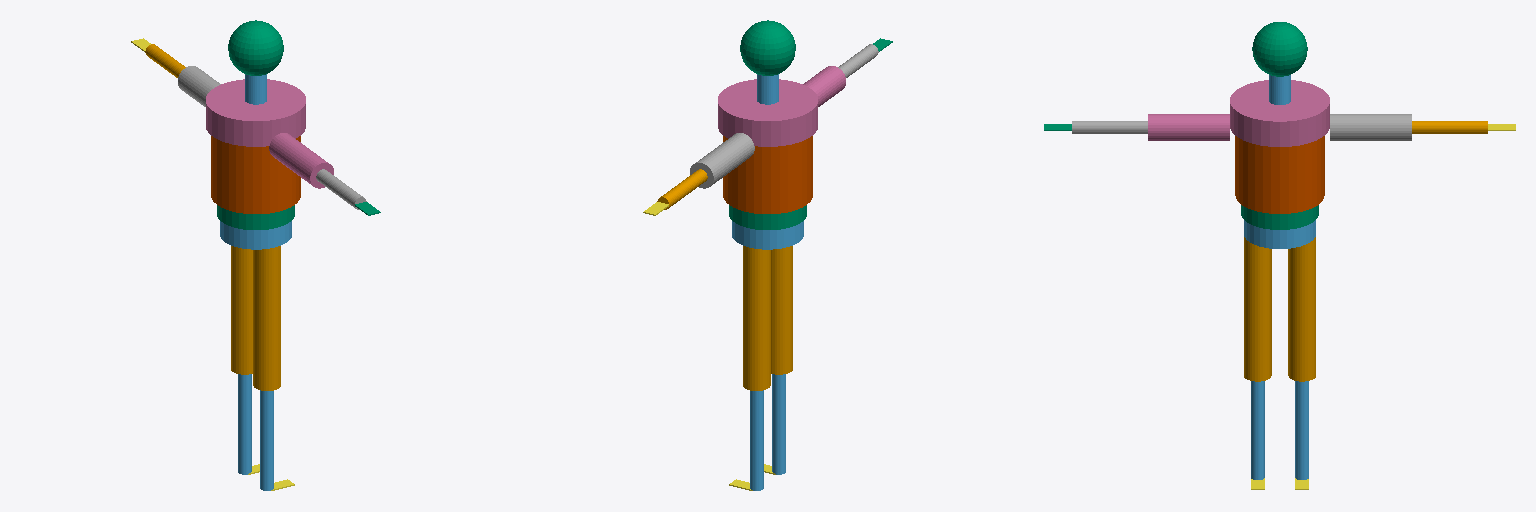
--- Facts derived from the render (not from the file) ---
The picture shows the robot from 3 angles, left to right: view 1: azimuth 30°, elevation 25°; view 2: azimuth 150°, elevation 25°; view 3: azimuth 270°, elevation 25°; orthographic projection.
Model human_model with 45 links and 44 joints (43 revolute, 1 fixed), rooted at world, posed all joints at 0.
Visible links, largest first — view 1: human/spine, human/shoulder_center, human/right_hip, human/left_hip, human/head, human/right_shoulder, human/right_knee, human/left_knee, human/base, human/spine_0, human/left_shoulder, human/right_elbow (+2 smaller); view 2: human/spine, human/shoulder_center, human/left_hip, human/right_hip, human/head, human/left_shoulder, human/right_knee, human/left_knee, human/base, human/spine_0, human/right_shoulder, human/left_elbow (+2 smaller); view 3: human/spine, human/shoulder_center, human/right_hip, human/left_hip, human/head, human/right_shoulder, human/left_shoulder, human/right_knee, human/left_knee, human/base, human/spine_0, human/right_elbow (+2 smaller).
Boxes of the visible links, x1,y1,x2,y2 form: human/spine: (211,136,300,213); human/shoulder_center: (206,79,305,146); human/right_hip: (253,246,280,390); human/left_hip: (231,246,252,374); human/head: (228,20,283,75); human/right_shoulder: (269,133,333,188); human/right_knee: (260,390,273,490); human/left_knee: (238,374,251,474); human/base: (220,221,291,249); human/spine_0: (217,205,294,229); human/left_shoulder: (178,66,220,106); human/right_elbow: (316,169,366,209); human/spine: (723,136,812,213); human/shoulder_center: (718,79,817,146); human/left_hip: (743,246,770,390); human/right_hip: (771,246,792,374); human/head: (740,20,795,75); human/left_shoulder: (690,133,754,188); human/right_knee: (772,374,785,474); human/left_knee: (750,390,763,490); human/base: (732,221,803,249); human/spine_0: (729,205,806,229); human/right_shoulder: (803,66,845,106); human/left_elbow: (657,169,707,209); human/spine: (1235,136,1324,213); human/shoulder_center: (1230,80,1329,146); human/right_hip: (1244,237,1271,381); human/left_hip: (1288,237,1315,381); human/head: (1252,22,1307,76); human/right_shoulder: (1148,114,1229,140); human/left_shoulder: (1330,114,1411,140); human/right_knee: (1251,381,1264,479); human/left_knee: (1295,381,1308,479); human/base: (1244,220,1315,248); human/spine_0: (1241,205,1318,229); human/right_elbow: (1072,121,1147,133).
Bounding box of the posed robot: 0.3623 × 1.7 × 1.81 m (x, y, z).
Geometry: primitives only (box / cylinder / sphere), no mesh files.

robot.urdf — human_model:
<?xml version="1.0" ?>
<!-- based on https://github.com/baxter-flowers/human_moveit_config/blob/master/urdf/human.urdf -->
<robot name="human_model" xmlns:xacro="http://ros.org/wiki/xacro">
    <link name="world" />
    <joint name="world_fixed" type="fixed">
        <parent link="world" />
        <child link="human/base" />
    </joint>
    <link name="human/base">
        <visual>
            <origin rpy="0 0 0" xyz="0 0 -0.0405569060538" />
            <geometry>
                <cylinder length="0.0811138121076" radius="0.130553532998" />
            </geometry>
        </visual>
        <collision>
            <origin rpy="0 0 0" xyz="0 0 -0.0405569060538" />
            <geometry>
                <cylinder length="0.0811138121076" radius="0.130553532998" />
            </geometry>
        </collision>
        <inertial>
            <mass value="0.1" />
            <origin xyz="0 0 0" rpy="0 0 0" />
            <inertia ixx="0.03" iyy="0.03" izz="0.03" ixy="0.0" ixz="0.0" iyz="0.0" />
        </inertial>
    </link>
    <link name="human/spine_0">
        <visual>
            <origin rpy="0 0 0" xyz="0 0 0.0363124478192" />
            <geometry>
                <cylinder length="0.0726248956383" radius="0.141172520845" />
            </geometry>
        </visual>
        <collision>
            <origin rpy="0 0 0" xyz="0 0 0.0363124478192" />
            <geometry>
                <cylinder length="0.0726248956383" radius="0.141172520845" />
            </geometry>
        </collision>
        <inertial>
            <mass value="0.1" />
            <origin xyz="0 0 0" rpy="0 0 0" />
            <inertia ixx="0.03" iyy="0.03" izz="0.03" ixy="0.0" ixz="0.0" iyz="0.0" />
        </inertial>
    </link>
    <link name="human/spine_1">
        <inertial>
            <mass value="0.001" />
            <origin xyz="0 0 0" rpy="0 0 0" />
            <inertia ixx="0.00" iyy="0.00" izz="0.00" ixy="0.0" ixz="0.0" iyz="0.0" />
        </inertial>
    </link>
    <link name="human/spine_2">
        <inertial>
            <mass value="0.001" />
            <origin xyz="0 0 0" rpy="0 0 0" />
            <inertia ixx="0.00" iyy="0.00" izz="0.00" ixy="0.0" ixz="0.0" iyz="0.0" />
        </inertial>
    </link>
    <link name="human/spine">
        <visual>
            <origin rpy="0 0 0" xyz="0 0 0.137944030927" />
            <geometry>
                <cylinder length="0.275888061853" radius="0.161172520845" />
            </geometry>
        </visual>
        <collision>
            <origin rpy="0 0 0" xyz="0 0 0.137944030927" />
            <geometry>
                <cylinder length="0.275888061853" radius="0.161172520845" />
            </geometry>
        </collision>
        <inertial>
            <mass value="0.1" />
            <origin xyz="0 0 0" rpy="0 0 0" />
            <inertia ixx="0.03" iyy="0.03" izz="0.03" ixy="0.0" ixz="0.0" iyz="0.0" />
        </inertial>
    </link>
    <link name="human/shoulder_center">
        <visual>
            <origin rpy="0 0 0" xyz="0 0 0.050635057485" />
            <geometry>
                <cylinder length="0.10127011497" radius="0.181172520845" />
            </geometry>
        </visual>
        <collision>
            <origin rpy="0 0 0" xyz="0 0 0.050635057485" />
            <geometry>
                <cylinder length="0.10127011497" radius="0.181172520845" />
            </geometry>
        </collision>
        <inertial>
            <mass value="0.1" />
            <origin xyz="0 0 0" rpy="0 0 0" />
            <inertia ixx="0.03" iyy="0.03" izz="0.03" ixy="0.0" ixz="0.0" iyz="0.0" />
        </inertial>
    </link>
    <link name="human/neck_0">
        <inertial>
            <mass value="0.001" />
            <origin xyz="0 0 0" rpy="0 0 0" />
            <inertia ixx="0.00" iyy="0.00" izz="0.00" ixy="0.0" ixz="0.0" iyz="0.0" />
        </inertial>
    </link>
    <link name="human/neck_1">
        <inertial>
            <mass value="0.001" />
            <origin xyz="0 0 0" rpy="0 0 0" />
            <inertia ixx="0.00" iyy="0.00" izz="0.00" ixy="0.0" ixz="0.0" iyz="0.0" />
        </inertial>
    </link>
    <link name="human/neck">
        <visual>
            <origin rpy="0 0 0" xyz="0 0 0.102139711472" />
            <geometry>
                <cylinder length="0.204279422944" radius="0.04" />
            </geometry>
        </visual>
        <collision>
            <origin rpy="0 0 0" xyz="0 0 0.102139711472" />
            <geometry>
                <cylinder length="0.204279422944" radius="0.04" />
            </geometry>
        </collision>
        <inertial>
            <mass value="0.1" />
            <origin xyz="0 0 0" rpy="0 0 0" />
            <inertia ixx="0.03" iyy="0.03" izz="0.03" ixy="0.0" ixz="0.0" iyz="0.0" />
        </inertial>
    </link>
    <link name="human/head">
        <visual>
            <origin rpy="0 0 0" xyz="0 0 0" />
            <geometry>
                <sphere radius="0.1" />
            </geometry>
        </visual>
        <collision>
            <origin rpy="0 0 0" xyz="0 0 0" />
            <geometry>
                <sphere radius="0.1" />
            </geometry>
        </collision>
        <inertial>
            <mass value="0.1" />
            <origin xyz="0 0 0" rpy="0 0 0" />
            <inertia ixx="0.03" iyy="0.03" izz="0.03" ixy="0.0" ixz="0.0" iyz="0.0" />
        </inertial>
    </link>
    <joint name="hip" type="revolute">
        <origin rpy="0 0 0" xyz="0 0 0" />
        <axis xyz="0 0 0" />
        <parent link="human/base" />
        <child link="human/spine_0" />
        <limit effort="0" lower="0" upper="0" velocity="0" />
    </joint>
    <!-- SPINE : spherical -->
    <joint name="spine_0" type="revolute">
        <origin rpy="0 0 0" xyz="0 0 0.0726248956383" />
        <axis xyz="1 0 0" />
        <parent link="human/spine_0" />
        <child link="human/spine_1" />
        <limit effort="1" lower="-1.57079632679" upper="1.57079632679" velocity="1" />
    </joint>
    <joint name="spine_1" type="revolute">
        <origin rpy="0 0 0" xyz="0 0 0" />
        <axis xyz="0 1 0" />
        <parent link="human/spine_1" />
        <child link="human/spine_2" />
        <limit effort="1" lower="-1.57079632679" upper="1.57079632679" velocity="1" />
    </joint>
    <joint name="spine_2" type="revolute">
        <origin rpy="0 0 0" xyz="0 0 0" />
        <axis xyz="0 0 1" />
        <parent link="human/spine_2" />
        <child link="human/spine" />
        <limit effort="1" lower="-1.57079632679" upper="1.57079632679" velocity="1" />
    </joint>
    <joint name="shoulder_center" type="revolute">
        <origin rpy="0 0 0" xyz="0 0 0.275888061853" />
        <axis xyz="0 0 0" />
        <parent link="human/spine" />
        <child link="human/shoulder_center" />
        <limit effort="0" lower="0" upper="0" velocity="0" />
    </joint>
    <!-- NECK : spherical -->
    <joint name="neck_0" type="revolute">
        <origin rpy="0 0 0" xyz="0 0 0.10127011497" />
        <axis xyz="1 0 0" />
        <parent link="human/shoulder_center" />
        <child link="human/neck_0" />
        <limit effort="1" lower="-1.57079632679" upper="1.57079632679" velocity="1" />
    </joint>
    <joint name="neck_1" type="revolute">
        <origin rpy="0 0 0" xyz="0 0 0" />
        <axis xyz="0 1 0" />
        <parent link="human/neck_0" />
        <child link="human/neck_1" />
        <limit effort="1" lower="-1.57079632679" upper="1.57079632679" velocity="1" />
    </joint>
    <joint name="neck_2" type="revolute">
        <origin rpy="0 0 0" xyz="0 0 0" />
        <axis xyz="0 0 1" />
        <parent link="human/neck_1" />
        <child link="human/neck" />
        <limit effort="1" lower="-1.57079632679" upper="1.57079632679" velocity="1" />
    </joint>
    <!-- END NECK -->
    <joint name="head" type="revolute">
        <origin rpy="0 0 0" xyz="0 0 0.204279422944" />
        <axis xyz="0 0 0" />
        <parent link="human/neck" />
        <child link="human/head" />
        <limit effort="0" lower="0" upper="0" velocity="0" />
    </joint>
    <link name="human/right_arm_mount">
        <inertial>
            <mass value="0.001" />
            <origin xyz="0 0 0" rpy="0 0 0" />
            <inertia ixx="0.00" iyy="0.00" izz="0.00" ixy="0.0" ixz="0.0" iyz="0.0" />
        </inertial>
    </link>
    <link name="human/right_shoulder_0">
        <inertial>
            <mass value="0.001" />
            <origin xyz="0 0 0" rpy="0 0 0" />
            <inertia ixx="0.00" iyy="0.00" izz="0.00" ixy="0.0" ixz="0.0" iyz="0.0" />
        </inertial>
    </link>
    <link name="human/right_shoulder_1">
        <inertial>
            <mass value="0.001" />
            <origin xyz="0 0 0" rpy="0 0 0" />
            <inertia ixx="0.00" iyy="0.00" izz="0.00" ixy="0.0" ixz="0.0" iyz="0.0" />
        </inertial>
    </link>
    <link name="human/right_shoulder">
        <visual>
            <origin rpy="0 1.57079632679 0" xyz="0.147075804738 0 0" />
            <geometry>
                <cylinder length="0.294151609476" radius="0.05" />
            </geometry>
        </visual>
        <collision>
            <origin rpy="0 1.57079632679 0" xyz="0.147075804738 0 0" />
            <geometry>
                <cylinder length="0.294151609476" radius="0.05" />
            </geometry>
        </collision>
        <inertial>
            <mass value="0.1" />
            <origin xyz="0 0 0" rpy="0 0 0" />
            <inertia ixx="0.03" iyy="0.03" izz="0.03" ixy="0.0" ixz="0.0" iyz="0.0" />
        </inertial>
    </link>
    <link name="human/right_elbow">
        <visual>
            <origin rpy="0 1.57079632679 0" xyz="0.137074736994 0 0" />
            <geometry>
                <cylinder length="0.274149473988" radius="0.025" />
            </geometry>
        </visual>
        <collision>
            <origin rpy="0 1.57079632679 0" xyz="0.137074736994 0 0" />
            <geometry>
                <cylinder length="0.274149473988" radius="0.025" />
            </geometry>
        </collision>
        <inertial>
            <mass value="0.1" />
            <origin xyz="0 0 0" rpy="0 0 0" />
            <inertia ixx="0.03" iyy="0.03" izz="0.03" ixy="0.0" ixz="0.0" iyz="0.0" />
        </inertial>
    </link>
    <link name="human/right_wrist_0">
        <inertial>
            <mass value="0.001" />
            <origin xyz="0 0 0" rpy="0 0 0" />
            <inertia ixx="0.00" iyy="0.00" izz="0.00" ixy="0.0" ixz="0.0" iyz="0.0" />
        </inertial>
    </link>
    <link name="human/right_wrist_1">
        <inertial>
            <mass value="0.001" />
            <origin xyz="0 0 0" rpy="0 0 0" />
            <inertia ixx="0.00" iyy="0.00" izz="0.00" ixy="0.0" ixz="0.0" iyz="0.0" />
        </inertial>
    </link>
    <link name="human/right_wrist">
        <visual>
            <origin rpy="0 0 0" xyz="0.05 0 0" />
            <geometry>
                <box size="0.1 0.05 .005" />
            </geometry>
        </visual>
        <collision>
            <origin rpy="0 0 0" xyz="0.05 0 0" />
            <geometry>
                <box size="0.1 0.05 .005" />
            </geometry>
        </collision>
        <inertial>
            <mass value="0.1" />
            <origin xyz="0 0 0" rpy="0 0 0" />
            <inertia ixx="0.03" iyy="0.03" izz="0.03" ixy="0.0" ixz="0.0" iyz="0.0" />
        </inertial>
    </link>
    <link name="human/right_hand" />
    <!-- Joints -->
    <joint name="right_arm_mount" type="revolute">
        <origin rpy="0 0 -1.57079632679" xyz="0 -0.181172520845 -0.00609526854636" />
        <axis xyz="0 0 0" />
        <parent link="human/shoulder_center" />
        <child link="human/right_arm_mount" />
        <limit effort="0" lower="0" upper="0" velocity="0" />
    </joint>
    <!-- SHOULDER : spherical -->
    <joint name="right_shoulder_0" type="revolute">
        <origin rpy="0 0 0" xyz="0 0 0" />
        <axis xyz="0 1 0" />
        <parent link="human/right_arm_mount" />
        <child link="human/right_shoulder_0" />
        <limit effort="1" lower="-1.57079632679" upper="1.57079632679" velocity="1" />
    </joint>
    <joint name="right_shoulder_1" type="revolute">
        <origin rpy="0 0 0" xyz="0 0 0" />
        <axis xyz="0 0 1" />
        <parent link="human/right_shoulder_0" />
        <child link="human/right_shoulder_1" />
        <limit effort="1" lower="-1.57079632679" upper="2.35619449019" velocity="1" />
    </joint>
    <joint name="right_shoulder_2" type="revolute">
        <origin rpy="0 0 0" xyz="0 0 0" />
        <axis xyz="1 0 0" />
        <parent link="human/right_shoulder_1" />
        <child link="human/right_shoulder" />
        <limit effort="1" lower="-1.57079632679" upper="1.57079632679" velocity="1" />
    </joint>
    <!-- END SHOULDER -->
    <joint name="right_elbow_0" type="revolute">
        <origin rpy="0 0 0" xyz="0.294151609476 0 0" />
        <axis xyz="0 0 1" />
        <parent link="human/right_shoulder" />
        <child link="human/right_elbow" />
        <limit effort="1" lower="0.0" upper="3.14159265359" velocity="1" />
    </joint>
    <joint name="right_wrist_0" type="revolute">
        <origin rpy="0 0 0" xyz="0.274149473988 0 0" />
        <axis xyz="0 0 1" />
        <parent link="human/right_elbow" />
        <child link="human/right_wrist_0" />
        <limit effort="1" lower="-0.78539816339" upper="0.78539816339" velocity="1" />
    </joint>
    <joint name="right_wrist_1" type="revolute">
        <origin rpy="0 0 0" xyz="0 0 0" />
        <axis xyz="0 1 0" />
        <parent link="human/right_wrist_0" />
        <child link="human/right_wrist_1" />
        <limit effort="1" lower="-1.57079632679" upper="1.57079632679" velocity="1" />
    </joint>
    <joint name="right_wrist_2" type="revolute">
        <origin rpy="0 0 0" xyz="0 0 0" />
        <axis xyz="1 0 0" />
        <parent link="human/right_wrist_1" />
        <child link="human/right_wrist" />
        <limit effort="1" lower="-1.57079632679" upper="1.57079632679" velocity="1" />
    </joint>
    <joint name="right_hand" type="revolute">
        <origin rpy="0 0 0" xyz="0.1 0 0" />
        <axis xyz="0 0 0" />
        <parent link="human/right_wrist" />
        <child link="human/right_hand" />
        <limit effort="0" lower="0" upper="0" velocity="0" />
    </joint>
    <link name="human/left_arm_mount">
        <inertial>
            <mass value="0.001" />
            <origin xyz="0 0 0" rpy="0 0 0" />
            <inertia ixx="0.00" iyy="0.00" izz="0.00" ixy="0.0" ixz="0.0" iyz="0.0" />
        </inertial>
    </link>
    <link name="human/left_shoulder_0">
        <inertial>
            <mass value="0.001" />
            <origin xyz="0 0 0" rpy="0 0 0" />
            <inertia ixx="0.00" iyy="0.00" izz="0.00" ixy="0.0" ixz="0.0" iyz="0.0" />
        </inertial>
    </link>
    <link name="human/left_shoulder_1">
        <inertial>
            <mass value="0.001" />
            <origin xyz="0 0 0" rpy="0 0 0" />
            <inertia ixx="0.00" iyy="0.00" izz="0.00" ixy="0.0" ixz="0.0" iyz="0.0" />
        </inertial>
    </link>
    <link name="human/left_shoulder">
        <visual>
            <origin rpy="0 1.57079632679 0" xyz="0.147075804738 0 0" />
            <geometry>
                <cylinder length="0.294151609476" radius="0.05" />
            </geometry>
        </visual>
        <collision>
            <origin rpy="0 1.57079632679 0" xyz="0.147075804738 0 0" />
            <geometry>
                <cylinder length="0.294151609476" radius="0.05" />
            </geometry>
        </collision>
        <inertial>
            <mass value="0.1" />
            <origin xyz="0 0 0" rpy="0 0 0" />
            <inertia ixx="0.03" iyy="0.03" izz="0.03" ixy="0.0" ixz="0.0" iyz="0.0" />
        </inertial>
    </link>
    <link name="human/left_elbow">
        <visual>
            <origin rpy="0 1.57079632679 0" xyz="0.137074736994 0 0" />
            <geometry>
                <cylinder length="0.274149473988" radius="0.025" />
            </geometry>
        </visual>
        <collision>
            <origin rpy="0 1.57079632679 0" xyz="0.137074736994 0 0" />
            <geometry>
                <cylinder length="0.274149473988" radius="0.025" />
            </geometry>
        </collision>
        <inertial>
            <mass value="0.1" />
            <origin xyz="0 0 0" rpy="0 0 0" />
            <inertia ixx="0.03" iyy="0.03" izz="0.03" ixy="0.0" ixz="0.0" iyz="0.0" />
        </inertial>
    </link>
    <link name="human/left_wrist_0">
        <inertial>
            <mass value="0.001" />
            <origin xyz="0 0 0" rpy="0 0 0" />
            <inertia ixx="0.00" iyy="0.00" izz="0.00" ixy="0.0" ixz="0.0" iyz="0.0" />
        </inertial>
    </link>
    <link name="human/left_wrist_1">
        <inertial>
            <mass value="0.001" />
            <origin xyz="0 0 0" rpy="0 0 0" />
            <inertia ixx="0.00" iyy="0.00" izz="0.00" ixy="0.0" ixz="0.0" iyz="0.0" />
        </inertial>
    </link>
    <link name="human/left_wrist">
        <visual>
            <origin rpy="0 0 0" xyz="0.05 0 0" />
            <geometry>
                <box size="0.1 0.05 .005" />
            </geometry>
        </visual>
        <collision>
            <origin rpy="0 0 0" xyz="0.05 0 0" />
            <geometry>
                <box size="0.1 0.05 .005" />
            </geometry>
        </collision>
        <inertial>
            <mass value="0.1" />
            <origin xyz="0 0 0" rpy="0 0 0" />
            <inertia ixx="0.03" iyy="0.03" izz="0.03" ixy="0.0" ixz="0.0" iyz="0.0" />
        </inertial>
    </link>
    <link name="human/left_hand" />
    <!-- Joints -->
    <joint name="left_arm_mount" type="revolute">
        <origin rpy="0 0 1.57079632679" xyz="0 0.181172520845 -0.00609526854636" />
        <axis xyz="0 0 0" />
        <parent link="human/shoulder_center" />
        <child link="human/left_arm_mount" />
        <limit effort="0" lower="0" upper="0" velocity="0" />
    </joint>
    <!-- SHOULDER : spherical -->
    <joint name="left_shoulder_0" type="revolute">
        <origin rpy="0 0 0" xyz="0 0 0" />
        <axis xyz="0 1 0" />
        <parent link="human/left_arm_mount" />
        <child link="human/left_shoulder_0" />
        <limit effort="1" lower="-1.57079632679" upper="1.57079632679" velocity="1" />
    </joint>
    <joint name="left_shoulder_1" type="revolute">
        <origin rpy="0 0 0" xyz="0 0 0" />
        <axis xyz="0 0 1" />
        <parent link="human/left_shoulder_0" />
        <child link="human/left_shoulder_1" />
        <limit effort="1" lower="-2.35619449019" upper="1.57079632679" velocity="1" />
    </joint>
    <joint name="left_shoulder_2" type="revolute">
        <origin rpy="0 0 0" xyz="0 0 0" />
        <axis xyz="1 0 0" />
        <parent link="human/left_shoulder_1" />
        <child link="human/left_shoulder" />
        <limit effort="1" lower="-1.57079632679" upper="1.57079632679" velocity="1" />
    </joint>
    <!-- END SHOULDER -->
    <joint name="left_elbow_0" type="revolute">
        <origin rpy="0 0 0" xyz="0.294151609476 0 0" />
        <axis xyz="0 0 1" />
        <parent link="human/left_shoulder" />
        <child link="human/left_elbow" />
        <limit effort="1" lower="-3.14159265359" upper="0.0" velocity="1" />
    </joint>
    <joint name="left_wrist_0" type="revolute">
        <origin rpy="0 0 0" xyz="0.274149473988 0 0" />
        <axis xyz="0 0 1" />
        <parent link="human/left_elbow" />
        <child link="human/left_wrist_0" />
        <limit effort="1" lower="-0.78539816339" upper="0.78539816339" velocity="1" />
    </joint>
    <joint name="left_wrist_1" type="revolute">
        <origin rpy="0 0 0" xyz="0 0 0" />
        <axis xyz="0 1 0" />
        <parent link="human/left_wrist_0" />
        <child link="human/left_wrist_1" />
        <limit effort="1" lower="-1.57079632679" upper="1.57079632679" velocity="1" />
    </joint>
    <joint name="left_wrist_2" type="revolute">
        <origin rpy="0 0 0" xyz="0 0 0" />
        <axis xyz="1 0 0" />
        <parent link="human/left_wrist_1" />
        <child link="human/left_wrist" />
        <limit effort="1" lower="-1.57079632679" upper="1.57079632679" velocity="1" />
    </joint>
    <joint name="left_hand" type="revolute">
        <origin rpy="0 0 0" xyz="0.1 0 0" />
        <axis xyz="0 0 0" />
        <parent link="human/left_wrist" />
        <child link="human/left_hand" />
        <limit effort="0" lower="0" upper="0" velocity="0" />
    </joint>
    <link name="human/right_leg_mount">
        <inertial>
            <mass value="0.001" />
            <origin xyz="0 0 0" rpy="0 0 0" />
            <inertia ixx="0.00" iyy="0.00" izz="0.00" ixy="0.0" ixz="0.0" iyz="0.0" />
        </inertial>
    </link>
    <link name="human/right_hip_0">
        <inertial>
            <mass value="0.001" />
            <origin xyz="0 0 0" rpy="0 0 0" />
            <inertia ixx="0.00" iyy="0.00" izz="0.00" ixy="0.0" ixz="0.0" iyz="0.0" />
        </inertial>
    </link>
    <link name="human/right_hip_1">
        <inertial>
            <mass value="0.001" />
            <origin xyz="0 0 0" rpy="0 0 0" />
            <inertia ixx="0.00" iyy="0.00" izz="0.00" ixy="0.0" ixz="0.0" iyz="0.0" />
        </inertial>
    </link>
    <link name="human/right_hip">
        <visual>
            <origin rpy="0 1.57079632679 0" xyz="0.282210946758 0 0" />
            <geometry>
                <cylinder length="0.564421893516" radius="0.05" />
            </geometry>
        </visual>
        <collision>
            <origin rpy="0 1.57079632679 0" xyz="0.282210946758 0 0" />
            <geometry>
                <cylinder length="0.564421893516" radius="0.05" />
            </geometry>
        </collision>
        <inertial>
            <mass value="0.1" />
            <origin xyz="0 0 0" rpy="0 0 0" />
            <inertia ixx="0.03" iyy="0.03" izz="0.03" ixy="0.0" ixz="0.0" iyz="0.0" />
        </inertial>
    </link>
    <link name="human/right_knee">
        <visual>
            <origin rpy="0 1.57079632679 0" xyz="0.203668548616 0 0" />
            <geometry>
                <cylinder length="0.407337097232" radius="0.025" />
            </geometry>
        </visual>
        <collision>
            <origin rpy="0 1.57079632679 0" xyz="0.203668548616 0 0" />
            <geometry>
                <cylinder length="0.407337097232" radius="0.025" />
            </geometry>
        </collision>
        <inertial>
            <mass value="0.1" />
            <origin xyz="0 0 0" rpy="0 0 0" />
            <inertia ixx="0.03" iyy="0.03" izz="0.03" ixy="0.0" ixz="0.0" iyz="0.0" />
        </inertial>
    </link>
    <link name="human/right_ankle_0">
        <inertial>
            <mass value="0.001" />
            <origin xyz="0 0 0" rpy="0 0 0" />
            <inertia ixx="0.00" iyy="0.00" izz="0.00" ixy="0.0" ixz="0.0" iyz="0.0" />
        </inertial>
    </link>
    <link name="human/right_ankle">
        <visual>
            <origin rpy="0 0 0" xyz="0.05 0 0" />
            <geometry>
                <box size="0.1 0.05 .005" />
            </geometry>
        </visual>
        <collision>
            <origin rpy="0 0 0" xyz="0.05 0 0" />
            <geometry>
                <box size="0.1 0.05 .005" />
            </geometry>
        </collision>
        <inertial>
            <mass value="0.1" />
            <origin xyz="0 0 0" rpy="0 0 0" />
            <inertia ixx="0.03" iyy="0.03" izz="0.03" ixy="0.0" ixz="0.0" iyz="0.0" />
        </inertial>
    </link>
    <link name="human/right_foot" />
    <!-- Joints -->
    <joint name="right_hip_leg_mount" type="revolute">
        <origin rpy="0 1.57079632679 0" xyz="0 -0.080553532998 -0.0811138121076" />
        <axis xyz="0 0 0" />
        <parent link="human/base" />
        <child link="human/right_leg_mount" />
        <limit effort="0" lower="0" upper="0" velocity="0" />
    </joint>
    <!-- hip : spherical -->
    <joint name="right_hip_0" type="revolute">
        <origin rpy="0 0 0" xyz="0 0 0" />
        <axis xyz="0 0 1" />
        <parent link="human/right_leg_mount" />
        <child link="human/right_hip_0" />
        <limit effort="1" lower="-1.57079632679" upper="1.57079632679" velocity="1" />
    </joint>
    <joint name="right_hip_1" type="revolute">
        <origin rpy="0 0 0" xyz="0 0 0" />
        <axis xyz="0 1 0" />
        <parent link="human/right_hip_0" />
        <child link="human/right_hip_1" />
        <limit effort="1" lower="-1.57079632679" upper="1.57079632679" velocity="1" />
    </joint>
    <joint name="right_hip_2" type="revolute">
        <origin rpy="0 0 0" xyz="0 0 0" />
        <axis xyz="1 0 0" />
        <parent link="human/right_hip_1" />
        <child link="human/right_hip" />
        <limit effort="1" lower="-1.57079632679" upper="1.57079632679" velocity="1" />
    </joint>
    <!-- END hip -->
    <joint name="right_knee_0" type="revolute">
        <origin rpy="1.57079632679 0 0" xyz="0.564421893516 0 0" />
        <axis xyz="0 0 1" />
        <parent link="human/right_hip" />
        <child link="human/right_knee" />
        <limit effort="1" lower="-3.14159265359" upper="0.1" velocity="1" />
    </joint>
    <!-- ankle : spherical -->
    <joint name="right_ankle_0" type="revolute">
        <origin rpy="-1.57079632679 0 1.57079632679" xyz="0.407337097232 0 0" />
        <axis xyz="0 0 1" />
        <parent link="human/right_knee" />
        <child link="human/right_ankle_0" />
        <limit effort="1" lower="-1.57079632679" upper="1.57079632679" velocity="1" />
    </joint>
    <joint name="right_ankle_1" type="revolute">
        <origin rpy="0 0 0" xyz="0 0 0" />
        <axis xyz="0 1 0" />
        <parent link="human/right_ankle_0" />
        <child link="human/right_ankle" />
        <limit effort="1" lower="-1.57079632679" upper="1.57079632679" velocity="1" />
    </joint>
    <!-- END ankle -->
    <joint name="right_foot" type="revolute">
        <origin rpy="0 0 0" xyz="0.1 0 0" />
        <axis xyz="0 0 0" />
        <parent link="human/right_ankle" />
        <child link="human/right_foot" />
        <limit effort="0" lower="0" upper="0" velocity="0" />
    </joint>
    <link name="human/left_leg_mount">
        <inertial>
            <mass value="0.001" />
            <origin xyz="0 0 0" rpy="0 0 0" />
            <inertia ixx="0.00" iyy="0.00" izz="0.00" ixy="0.0" ixz="0.0" iyz="0.0" />
        </inertial>
    </link>
    <link name="human/left_hip_0">
        <inertial>
            <mass value="0.001" />
            <origin xyz="0 0 0" rpy="0 0 0" />
            <inertia ixx="0.00" iyy="0.00" izz="0.00" ixy="0.0" ixz="0.0" iyz="0.0" />
        </inertial>
    </link>
    <link name="human/left_hip_1">
        <inertial>
            <mass value="0.001" />
            <origin xyz="0 0 0" rpy="0 0 0" />
            <inertia ixx="0.00" iyy="0.00" izz="0.00" ixy="0.0" ixz="0.0" iyz="0.0" />
        </inertial>
    </link>
    <link name="human/left_hip">
        <visual>
            <origin rpy="0 1.57079632679 0" xyz="0.282210946758 0 0" />
            <geometry>
                <cylinder length="0.564421893516" radius="0.05" />
            </geometry>
        </visual>
        <collision>
            <origin rpy="0 1.57079632679 0" xyz="0.282210946758 0 0" />
            <geometry>
                <cylinder length="0.564421893516" radius="0.05" />
            </geometry>
        </collision>
        <inertial>
            <mass value="0.1" />
            <origin xyz="0 0 0" rpy="0 0 0" />
            <inertia ixx="0.03" iyy="0.03" izz="0.03" ixy="0.0" ixz="0.0" iyz="0.0" />
        </inertial>
    </link>
    <link name="human/left_knee">
        <visual>
            <origin rpy="0 1.57079632679 0" xyz="0.203668548616 0 0" />
            <geometry>
                <cylinder length="0.407337097232" radius="0.025" />
            </geometry>
        </visual>
        <collision>
            <origin rpy="0 1.57079632679 0" xyz="0.203668548616 0 0" />
            <geometry>
                <cylinder length="0.407337097232" radius="0.025" />
            </geometry>
        </collision>
        <inertial>
            <mass value="0.1" />
            <origin xyz="0 0 0" rpy="0 0 0" />
            <inertia ixx="0.03" iyy="0.03" izz="0.03" ixy="0.0" ixz="0.0" iyz="0.0" />
        </inertial>
    </link>
    <link name="human/left_ankle_0">
        <inertial>
            <mass value="0.001" />
            <origin xyz="0 0 0" rpy="0 0 0" />
            <inertia ixx="0.00" iyy="0.00" izz="0.00" ixy="0.0" ixz="0.0" iyz="0.0" />
        </inertial>
    </link>
    <link name="human/left_ankle">
        <visual>
            <origin rpy="0 0 0" xyz="0.05 0 0" />
            <geometry>
                <box size="0.1 0.05 .005" />
            </geometry>
        </visual>
        <collision>
            <origin rpy="0 0 0" xyz="0.05 0 0" />
            <geometry>
                <box size="0.1 0.05 .005" />
            </geometry>
        </collision>
        <inertial>
            <mass value="0.1" />
            <origin xyz="0 0 0" rpy="0 0 0" />
            <inertia ixx="0.03" iyy="0.03" izz="0.03" ixy="0.0" ixz="0.0" iyz="0.0" />
        </inertial>
    </link>
    <link name="human/left_foot" />
    <!-- Joints -->
    <joint name="left_hip_leg_mount" type="revolute">
        <origin rpy="0 1.57079632679 0" xyz="0 0.080553532998 -0.0811138121076" />
        <axis xyz="0 0 0" />
        <parent link="human/base" />
        <child link="human/left_leg_mount" />
        <limit effort="0" lower="0" upper="0" velocity="0" />
    </joint>
    <!-- hip : spherical -->
    <joint name="left_hip_0" type="revolute">
        <origin rpy="0 0 0" xyz="0 0 0" />
        <axis xyz="0 0 1" />
        <parent link="human/left_leg_mount" />
        <child link="human/left_hip_0" />
        <limit effort="1" lower="-1.57079632679" upper="1.57079632679" velocity="1" />
    </joint>
    <joint name="left_hip_1" type="revolute">
        <origin rpy="0 0 0" xyz="0 0 0" />
        <axis xyz="0 1 0" />
        <parent link="human/left_hip_0" />
        <child link="human/left_hip_1" />
        <limit effort="1" lower="-1.57079632679" upper="1.57079632679" velocity="1" />
    </joint>
    <joint name="left_hip_2" type="revolute">
        <origin rpy="0 0 0" xyz="0 0 0" />
        <axis xyz="1 0 0" />
        <parent link="human/left_hip_1" />
        <child link="human/left_hip" />
        <limit effort="1" lower="-1.57079632679" upper="1.57079632679" velocity="1" />
    </joint>
    <!-- END hip -->
    <joint name="left_knee_0" type="revolute">
        <origin rpy="1.57079632679 0 0" xyz="0.564421893516 0 0" />
        <axis xyz="0 0 1" />
        <parent link="human/left_hip" />
        <child link="human/left_knee" />
        <limit effort="1" lower="-3.14159265359" upper="0.1" velocity="1" />
    </joint>
    <!-- ankle : spherical -->
    <joint name="left_ankle_0" type="revolute">
        <origin rpy="-1.57079632679 0 1.57079632679" xyz="0.407337097232 0 0" />
        <axis xyz="0 0 1" />
        <parent link="human/left_knee" />
        <child link="human/left_ankle_0" />
        <limit effort="1" lower="-1.57079632679" upper="1.57079632679" velocity="1" />
    </joint>
    <joint name="left_ankle_1" type="revolute">
        <origin rpy="0 0 0" xyz="0 0 0" />
        <axis xyz="0 1 0" />
        <parent link="human/left_ankle_0" />
        <child link="human/left_ankle" />
        <limit effort="1" lower="-1.57079632679" upper="1.57079632679" velocity="1" />
    </joint>
    <!-- END ankle -->
    <joint name="left_foot" type="revolute">
        <origin rpy="0 0 0" xyz="0.1 0 0" />
        <axis xyz="0 0 0" />
        <parent link="human/left_ankle" />
        <child link="human/left_foot" />
        <limit effort="0" lower="0" upper="0" velocity="0" />
    </joint>
    <transmission name="trans_spine_0">
        <type>transmission_interface/SimpleTransmission</type>
        <joint name="spine_0">
            <hardwareInterface>hardware_interface/PositionJointInterface</hardwareInterface>
        </joint>
        <actuator name="spine_0_motor">
            <hardwareInterface>hardware_interface/PositionJointInterface</hardwareInterface>
            <mechanicalReduction>1</mechanicalReduction>
        </actuator>
    </transmission>
    <transmission name="trans_spine_1">
        <type>transmission_interface/SimpleTransmission</type>
        <joint name="spine_1">
            <hardwareInterface>hardware_interface/PositionJointInterface</hardwareInterface>
        </joint>
        <actuator name="spine_1_motor">
            <hardwareInterface>hardware_interface/PositionJointInterface</hardwareInterface>
            <mechanicalReduction>1</mechanicalReduction>
        </actuator>
    </transmission>
    <transmission name="trans_spine_2">
        <type>transmission_interface/SimpleTransmission</type>
        <joint name="spine_2">
            <hardwareInterface>hardware_interface/PositionJointInterface</hardwareInterface>
        </joint>
        <actuator name="spine_2_motor">
            <hardwareInterface>hardware_interface/PositionJointInterface</hardwareInterface>
            <mechanicalReduction>1</mechanicalReduction>
        </actuator>
    </transmission>
    <transmission name="trans_neck_0">
        <type>transmission_interface/SimpleTransmission</type>
        <joint name="neck_0">
            <hardwareInterface>hardware_interface/PositionJointInterface</hardwareInterface>
        </joint>
        <actuator name="neck_0_motor">
            <hardwareInterface>hardware_interface/PositionJointInterface</hardwareInterface>
            <mechanicalReduction>1</mechanicalReduction>
        </actuator>
    </transmission>
    <transmission name="trans_neck_1">
        <type>transmission_interface/SimpleTransmission</type>
        <joint name="neck_1">
            <hardwareInterface>hardware_interface/PositionJointInterface</hardwareInterface>
        </joint>
        <actuator name="neck_1_motor">
            <hardwareInterface>hardware_interface/PositionJointInterface</hardwareInterface>
            <mechanicalReduction>1</mechanicalReduction>
        </actuator>
    </transmission>
    <transmission name="trans_neck_2">
        <type>transmission_interface/SimpleTransmission</type>
        <joint name="neck_2">
            <hardwareInterface>hardware_interface/PositionJointInterface</hardwareInterface>
        </joint>
        <actuator name="neck_2_motor">
            <hardwareInterface>hardware_interface/PositionJointInterface</hardwareInterface>
            <mechanicalReduction>1</mechanicalReduction>
        </actuator>
    </transmission>
    <transmission name="trans_right_shoulder_0">
        <type>transmission_interface/SimpleTransmission</type>
        <joint name="right_shoulder_0">
            <hardwareInterface>hardware_interface/PositionJointInterface</hardwareInterface>
        </joint>
        <actuator name="right_shoulder_0_motor">
            <hardwareInterface>hardware_interface/PositionJointInterface</hardwareInterface>
            <mechanicalReduction>1</mechanicalReduction>
        </actuator>
    </transmission>
    <transmission name="trans_right_shoulder_1">
        <type>transmission_interface/SimpleTransmission</type>
        <joint name="right_shoulder_1">
            <hardwareInterface>hardware_interface/PositionJointInterface</hardwareInterface>
        </joint>
        <actuator name="right_shoulder_1_motor">
            <hardwareInterface>hardware_interface/PositionJointInterface</hardwareInterface>
            <mechanicalReduction>1</mechanicalReduction>
        </actuator>
    </transmission>
    <transmission name="trans_right_shoulder_2">
        <type>transmission_interface/SimpleTransmission</type>
        <joint name="right_shoulder_2">
            <hardwareInterface>hardware_interface/PositionJointInterface</hardwareInterface>
        </joint>
        <actuator name="right_shoulder_2_motor">
            <hardwareInterface>hardware_interface/PositionJointInterface</hardwareInterface>
            <mechanicalReduction>1</mechanicalReduction>
        </actuator>
    </transmission>
    <transmission name="trans_right_elbow_0">
        <type>transmission_interface/SimpleTransmission</type>
        <joint name="right_elbow_0">
            <hardwareInterface>hardware_interface/PositionJointInterface</hardwareInterface>
        </joint>
        <actuator name="right_elbow_0_motor">
            <hardwareInterface>hardware_interface/PositionJointInterface</hardwareInterface>
            <mechanicalReduction>1</mechanicalReduction>
        </actuator>
    </transmission>
    <transmission name="trans_right_wrist_0">
        <type>transmission_interface/SimpleTransmission</type>
        <joint name="right_wrist_0">
            <hardwareInterface>hardware_interface/PositionJointInterface</hardwareInterface>
        </joint>
        <actuator name="right_wrist_0_motor">
            <hardwareInterface>hardware_interface/PositionJointInterface</hardwareInterface>
            <mechanicalReduction>1</mechanicalReduction>
        </actuator>
    </transmission>
    <transmission name="trans_right_wrist_1">
        <type>transmission_interface/SimpleTransmission</type>
        <joint name="right_wrist_1">
            <hardwareInterface>hardware_interface/PositionJointInterface</hardwareInterface>
        </joint>
        <actuator name="right_wrist_1_motor">
            <hardwareInterface>hardware_interface/PositionJointInterface</hardwareInterface>
            <mechanicalReduction>1</mechanicalReduction>
        </actuator>
    </transmission>
    <transmission name="trans_right_wrist_2">
        <type>transmission_interface/SimpleTransmission</type>
        <joint name="right_wrist_2">
            <hardwareInterface>hardware_interface/PositionJointInterface</hardwareInterface>
        </joint>
        <actuator name="right_wrist_2_motor">
            <hardwareInterface>hardware_interface/PositionJointInterface</hardwareInterface>
            <mechanicalReduction>1</mechanicalReduction>
        </actuator>
    </transmission>
    <transmission name="trans_left_shoulder_0">
        <type>transmission_interface/SimpleTransmission</type>
        <joint name="left_shoulder_0">
            <hardwareInterface>hardware_interface/PositionJointInterface</hardwareInterface>
        </joint>
        <actuator name="left_shoulder_0_motor">
            <hardwareInterface>hardware_interface/PositionJointInterface</hardwareInterface>
            <mechanicalReduction>1</mechanicalReduction>
        </actuator>
    </transmission>
    <transmission name="trans_left_shoulder_1">
        <type>transmission_interface/SimpleTransmission</type>
        <joint name="left_shoulder_1">
            <hardwareInterface>hardware_interface/PositionJointInterface</hardwareInterface>
        </joint>
        <actuator name="left_shoulder_1_motor">
            <hardwareInterface>hardware_interface/PositionJointInterface</hardwareInterface>
            <mechanicalReduction>1</mechanicalReduction>
        </actuator>
    </transmission>
    <transmission name="trans_left_shoulder_2">
        <type>transmission_interface/SimpleTransmission</type>
        <joint name="left_shoulder_2">
            <hardwareInterface>hardware_interface/PositionJointInterface</hardwareInterface>
        </joint>
        <actuator name="left_shoulder_2_motor">
            <hardwareInterface>hardware_interface/PositionJointInterface</hardwareInterface>
            <mechanicalReduction>1</mechanicalReduction>
        </actuator>
    </transmission>
    <transmission name="trans_left_elbow_0">
        <type>transmission_interface/SimpleTransmission</type>
        <joint name="left_elbow_0">
            <hardwareInterface>hardware_interface/PositionJointInterface</hardwareInterface>
        </joint>
        <actuator name="left_elbow_0_motor">
            <hardwareInterface>hardware_interface/PositionJointInterface</hardwareInterface>
            <mechanicalReduction>1</mechanicalReduction>
        </actuator>
    </transmission>
    <transmission name="trans_left_wrist_0">
        <type>transmission_interface/SimpleTransmission</type>
        <joint name="left_wrist_0">
            <hardwareInterface>hardware_interface/PositionJointInterface</hardwareInterface>
        </joint>
        <actuator name="left_wrist_0_motor">
            <hardwareInterface>hardware_interface/PositionJointInterface</hardwareInterface>
            <mechanicalReduction>1</mechanicalReduction>
        </actuator>
    </transmission>
    <transmission name="trans_left_wrist_1">
        <type>transmission_interface/SimpleTransmission</type>
        <joint name="left_wrist_1">
            <hardwareInterface>hardware_interface/PositionJointInterface</hardwareInterface>
        </joint>
        <actuator name="left_wrist_1_motor">
            <hardwareInterface>hardware_interface/PositionJointInterface</hardwareInterface>
            <mechanicalReduction>1</mechanicalReduction>
        </actuator>
    </transmission>
    <transmission name="trans_left_wrist_2">
        <type>transmission_interface/SimpleTransmission</type>
        <joint name="left_wrist_2">
            <hardwareInterface>hardware_interface/PositionJointInterface</hardwareInterface>
        </joint>
        <actuator name="left_wrist_2_motor">
            <hardwareInterface>hardware_interface/PositionJointInterface</hardwareInterface>
            <mechanicalReduction>1</mechanicalReduction>
        </actuator>
    </transmission>
    <transmission name="trans_right_hip_0">
        <type>transmission_interface/SimpleTransmission</type>
        <joint name="right_hip_0">
            <hardwareInterface>hardware_interface/PositionJointInterface</hardwareInterface>
        </joint>
        <actuator name="right_hip_0_motor">
            <hardwareInterface>hardware_interface/PositionJointInterface</hardwareInterface>
            <mechanicalReduction>1</mechanicalReduction>
        </actuator>
    </transmission>
    <transmission name="trans_right_hip_1">
        <type>transmission_interface/SimpleTransmission</type>
        <joint name="right_hip_1">
            <hardwareInterface>hardware_interface/PositionJointInterface</hardwareInterface>
        </joint>
        <actuator name="right_hip_1_motor">
            <hardwareInterface>hardware_interface/PositionJointInterface</hardwareInterface>
            <mechanicalReduction>1</mechanicalReduction>
        </actuator>
    </transmission>
    <transmission name="trans_right_hip_2">
        <type>transmission_interface/SimpleTransmission</type>
        <joint name="right_hip_2">
            <hardwareInterface>hardware_interface/PositionJointInterface</hardwareInterface>
        </joint>
        <actuator name="right_hip_2_motor">
            <hardwareInterface>hardware_interface/PositionJointInterface</hardwareInterface>
            <mechanicalReduction>1</mechanicalReduction>
        </actuator>
    </transmission>
    <transmission name="trans_right_knee_0">
        <type>transmission_interface/SimpleTransmission</type>
        <joint name="right_knee_0">
            <hardwareInterface>hardware_interface/PositionJointInterface</hardwareInterface>
        </joint>
        <actuator name="right_knee_0_motor">
            <hardwareInterface>hardware_interface/PositionJointInterface</hardwareInterface>
            <mechanicalReduction>1</mechanicalReduction>
        </actuator>
    </transmission>
    <transmission name="trans_right_ankle_0">
        <type>transmission_interface/SimpleTransmission</type>
        <joint name="right_ankle_0">
            <hardwareInterface>hardware_interface/PositionJointInterface</hardwareInterface>
        </joint>
        <actuator name="right_ankle_0_motor">
            <hardwareInterface>hardware_interface/PositionJointInterface</hardwareInterface>
            <mechanicalReduction>1</mechanicalReduction>
        </actuator>
    </transmission>
    <transmission name="trans_right_ankle_1">
        <type>transmission_interface/SimpleTransmission</type>
        <joint name="right_ankle_1">
            <hardwareInterface>hardware_interface/PositionJointInterface</hardwareInterface>
        </joint>
        <actuator name="right_ankle_1_motor">
            <hardwareInterface>hardware_interface/PositionJointInterface</hardwareInterface>
            <mechanicalReduction>1</mechanicalReduction>
        </actuator>
    </transmission>
    <transmission name="trans_left_hip_0">
        <type>transmission_interface/SimpleTransmission</type>
        <joint name="left_hip_0">
            <hardwareInterface>hardware_interface/PositionJointInterface</hardwareInterface>
        </joint>
        <actuator name="left_hip_0_motor">
            <hardwareInterface>hardware_interface/PositionJointInterface</hardwareInterface>
            <mechanicalReduction>1</mechanicalReduction>
        </actuator>
    </transmission>
    <transmission name="trans_left_hip_1">
        <type>transmission_interface/SimpleTransmission</type>
        <joint name="left_hip_1">
            <hardwareInterface>hardware_interface/PositionJointInterface</hardwareInterface>
        </joint>
        <actuator name="left_hip_1_motor">
            <hardwareInterface>hardware_interface/PositionJointInterface</hardwareInterface>
            <mechanicalReduction>1</mechanicalReduction>
        </actuator>
    </transmission>
    <transmission name="trans_left_hip_2">
        <type>transmission_interface/SimpleTransmission</type>
        <joint name="left_hip_2">
            <hardwareInterface>hardware_interface/PositionJointInterface</hardwareInterface>
        </joint>
        <actuator name="left_hip_2_motor">
            <hardwareInterface>hardware_interface/PositionJointInterface</hardwareInterface>
            <mechanicalReduction>1</mechanicalReduction>
        </actuator>
    </transmission>
    <transmission name="trans_left_knee_0">
        <type>transmission_interface/SimpleTransmission</type>
        <joint name="left_knee_0">
            <hardwareInterface>hardware_interface/PositionJointInterface</hardwareInterface>
        </joint>
        <actuator name="left_knee_0_motor">
            <hardwareInterface>hardware_interface/PositionJointInterface</hardwareInterface>
            <mechanicalReduction>1</mechanicalReduction>
        </actuator>
    </transmission>
    <transmission name="trans_left_ankle_0">
        <type>transmission_interface/SimpleTransmission</type>
        <joint name="left_ankle_0">
            <hardwareInterface>hardware_interface/PositionJointInterface</hardwareInterface>
        </joint>
        <actuator name="left_ankle_0_motor">
            <hardwareInterface>hardware_interface/PositionJointInterface</hardwareInterface>
            <mechanicalReduction>1</mechanicalReduction>
        </actuator>
    </transmission>
    <transmission name="trans_left_ankle_1">
        <type>transmission_interface/SimpleTransmission</type>
        <joint name="left_ankle_1">
            <hardwareInterface>hardware_interface/PositionJointInterface</hardwareInterface>
        </joint>
        <actuator name="left_ankle_1_motor">
            <hardwareInterface>hardware_interface/PositionJointInterface</hardwareInterface>
            <mechanicalReduction>1</mechanicalReduction>
        </actuator>
    </transmission>
    <gazebo>
        <plugin name="gazebo_ros_control" filename="libgazebo_ros_control.so">
            <robotNamespace>/human_gazebo</robotNamespace>
            <robotSimType>gazebo_ros_control/DefaultRobotHWSim</robotSimType>
            <legacyModeNS>true</legacyModeNS>
        </plugin>
    </gazebo>
    <transmission name="trans_hip">
        <type>transmission_interface/SimpleTransmission</type>
        <joint name="hip">
            <hardwareInterface>hardware_interface/EffortJointInterface</hardwareInterface>
        </joint>
        <actuator name="hip_motor">
            <hardwareInterface>hardware_interface/EffortJointInterface</hardwareInterface>
            <mechanicalReduction>1</mechanicalReduction>
        </actuator>
    </transmission>
    <transmission name="trans_shoulder_center">
        <type>transmission_interface/SimpleTransmission</type>
        <joint name="shoulder_center">
            <hardwareInterface>hardware_interface/EffortJointInterface</hardwareInterface>
        </joint>
        <actuator name="shoulder_center_motor">
            <hardwareInterface>hardware_interface/EffortJointInterface</hardwareInterface>
            <mechanicalReduction>1</mechanicalReduction>
        </actuator>
    </transmission>
    <transmission name="trans_head">
        <type>transmission_interface/SimpleTransmission</type>
        <joint name="head">
            <hardwareInterface>hardware_interface/EffortJointInterface</hardwareInterface>
        </joint>
        <actuator name="head_motor">
            <hardwareInterface>hardware_interface/EffortJointInterface</hardwareInterface>
            <mechanicalReduction>1</mechanicalReduction>
        </actuator>
    </transmission>
    <transmission name="trans_right_arm_mount">
        <type>transmission_interface/SimpleTransmission</type>
        <joint name="right_arm_mount">
            <hardwareInterface>hardware_interface/EffortJointInterface</hardwareInterface>
        </joint>
        <actuator name="right_arm_mount_motor">
            <hardwareInterface>hardware_interface/EffortJointInterface</hardwareInterface>
            <mechanicalReduction>1</mechanicalReduction>
        </actuator>
    </transmission>
    <transmission name="trans_right_hand">
        <type>transmission_interface/SimpleTransmission</type>
        <joint name="right_hand">
            <hardwareInterface>hardware_interface/EffortJointInterface</hardwareInterface>
        </joint>
        <actuator name="right_hand_motor">
            <hardwareInterface>hardware_interface/EffortJointInterface</hardwareInterface>
            <mechanicalReduction>1</mechanicalReduction>
        </actuator>
    </transmission>
    <transmission name="trans_left_arm_mount">
        <type>transmission_interface/SimpleTransmission</type>
        <joint name="left_arm_mount">
            <hardwareInterface>hardware_interface/EffortJointInterface</hardwareInterface>
        </joint>
        <actuator name="left_arm_mount_motor">
            <hardwareInterface>hardware_interface/EffortJointInterface</hardwareInterface>
            <mechanicalReduction>1</mechanicalReduction>
        </actuator>
    </transmission>
    <transmission name="trans_left_hand">
        <type>transmission_interface/SimpleTransmission</type>
        <joint name="left_hand">
            <hardwareInterface>hardware_interface/EffortJointInterface</hardwareInterface>
        </joint>
        <actuator name="left_hand_motor">
            <hardwareInterface>hardware_interface/EffortJointInterface</hardwareInterface>
            <mechanicalReduction>1</mechanicalReduction>
        </actuator>
    </transmission>
    <transmission name="trans_right_hip_leg_mount">
        <type>transmission_interface/SimpleTransmission</type>
        <joint name="right_hip_leg_mount">
            <hardwareInterface>hardware_interface/EffortJointInterface</hardwareInterface>
        </joint>
        <actuator name="right_hip_leg_mount_motor">
            <hardwareInterface>hardware_interface/EffortJointInterface</hardwareInterface>
            <mechanicalReduction>1</mechanicalReduction>
        </actuator>
    </transmission>
    <transmission name="trans_right_foot">
        <type>transmission_interface/SimpleTransmission</type>
        <joint name="right_foot">
            <hardwareInterface>hardware_interface/EffortJointInterface</hardwareInterface>
        </joint>
        <actuator name="right_foot_motor">
            <hardwareInterface>hardware_interface/EffortJointInterface</hardwareInterface>
            <mechanicalReduction>1</mechanicalReduction>
        </actuator>
    </transmission>
    <transmission name="trans_left_hip_leg_mount">
        <type>transmission_interface/SimpleTransmission</type>
        <joint name="left_hip_leg_mount">
            <hardwareInterface>hardware_interface/EffortJointInterface</hardwareInterface>
        </joint>
        <actuator name="left_hip_leg_mount_motor">
            <hardwareInterface>hardware_interface/EffortJointInterface</hardwareInterface>
            <mechanicalReduction>1</mechanicalReduction>
        </actuator>
    </transmission>
    <transmission name="trans_left_foot">
        <type>transmission_interface/SimpleTransmission</type>
        <joint name="left_foot">
            <hardwareInterface>hardware_interface/EffortJointInterface</hardwareInterface>
        </joint>
        <actuator name="left_foot_motor">
            <hardwareInterface>hardware_interface/EffortJointInterface</hardwareInterface>
            <mechanicalReduction>1</mechanicalReduction>
        </actuator>
    </transmission>
</robot>
